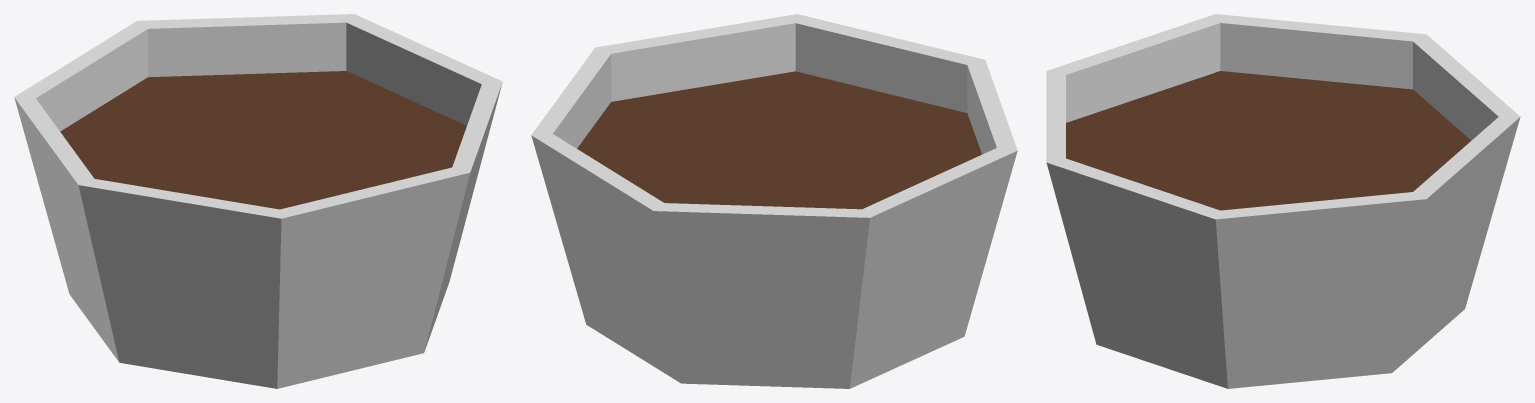
File: SM_Food_Soy_sauce_01.fbx
3 views of the same model, side by side, from view 1: azimuth 30°, elevation 25°; view 2: azimuth 150°, elevation 25°; view 3: azimuth 270°, elevation 25° (orthographic).
Parts seen in each view (by area): view 1: SM_Food_Soy_sauce_01; view 2: SM_Food_Soy_sauce_01; view 3: SM_Food_Soy_sauce_01.
Boxes of the visible parts, <box> form: SM_Food_Soy_sauce_01: <box>14,14,502,388</box>; SM_Food_Soy_sauce_01: <box>531,14,1017,388</box>; SM_Food_Soy_sauce_01: <box>1046,14,1520,388</box>.
Bounding box in the file's own units: 10.39 × 4.54 × 10.13.
